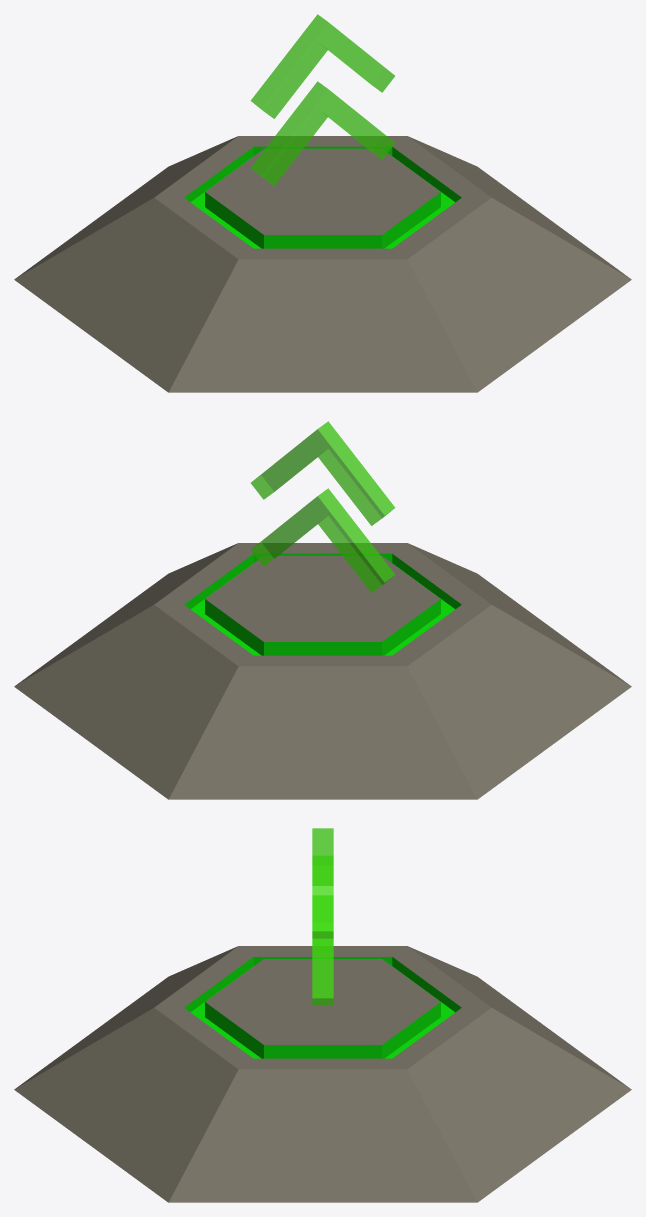
Rendered from Jumppad.fbx.
3 views of the same model, one above another, from view 1: azimuth 30°, elevation 25°; view 2: azimuth 150°, elevation 25°; view 3: azimuth 270°, elevation 25° (orthographic).
Parts seen in each view (by area): view 1: Cylinder; view 2: Cylinder; view 3: Cylinder.
Part boxes in pixels (<box>): Cylinder: <box>14,14,631,392</box>; Cylinder: <box>14,421,631,799</box>; Cylinder: <box>14,828,631,1202</box>.
Bounding box in the file's own units: 407 × 220 × 470.
